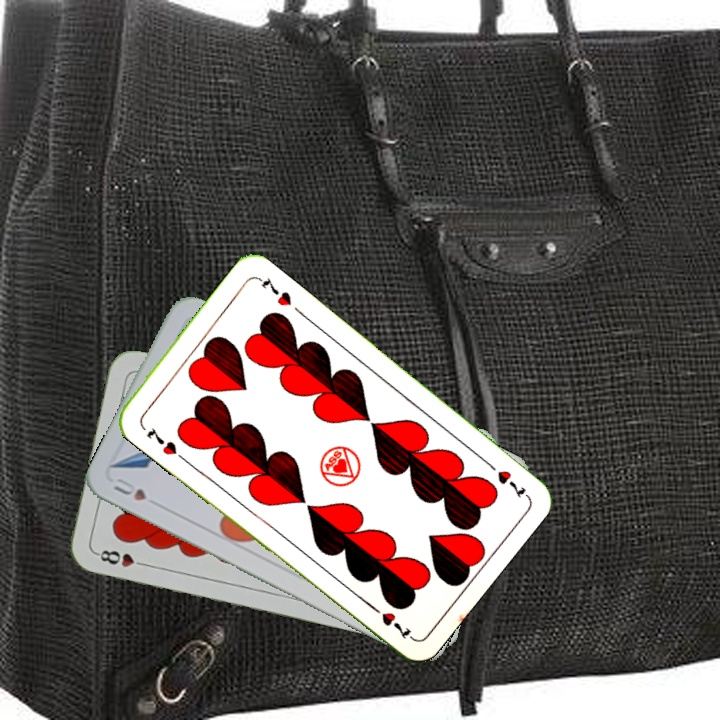H7: (480, 456, 530, 501), (142, 422, 180, 458)
H8: (92, 545, 150, 570)
HU: (109, 474, 149, 504)
